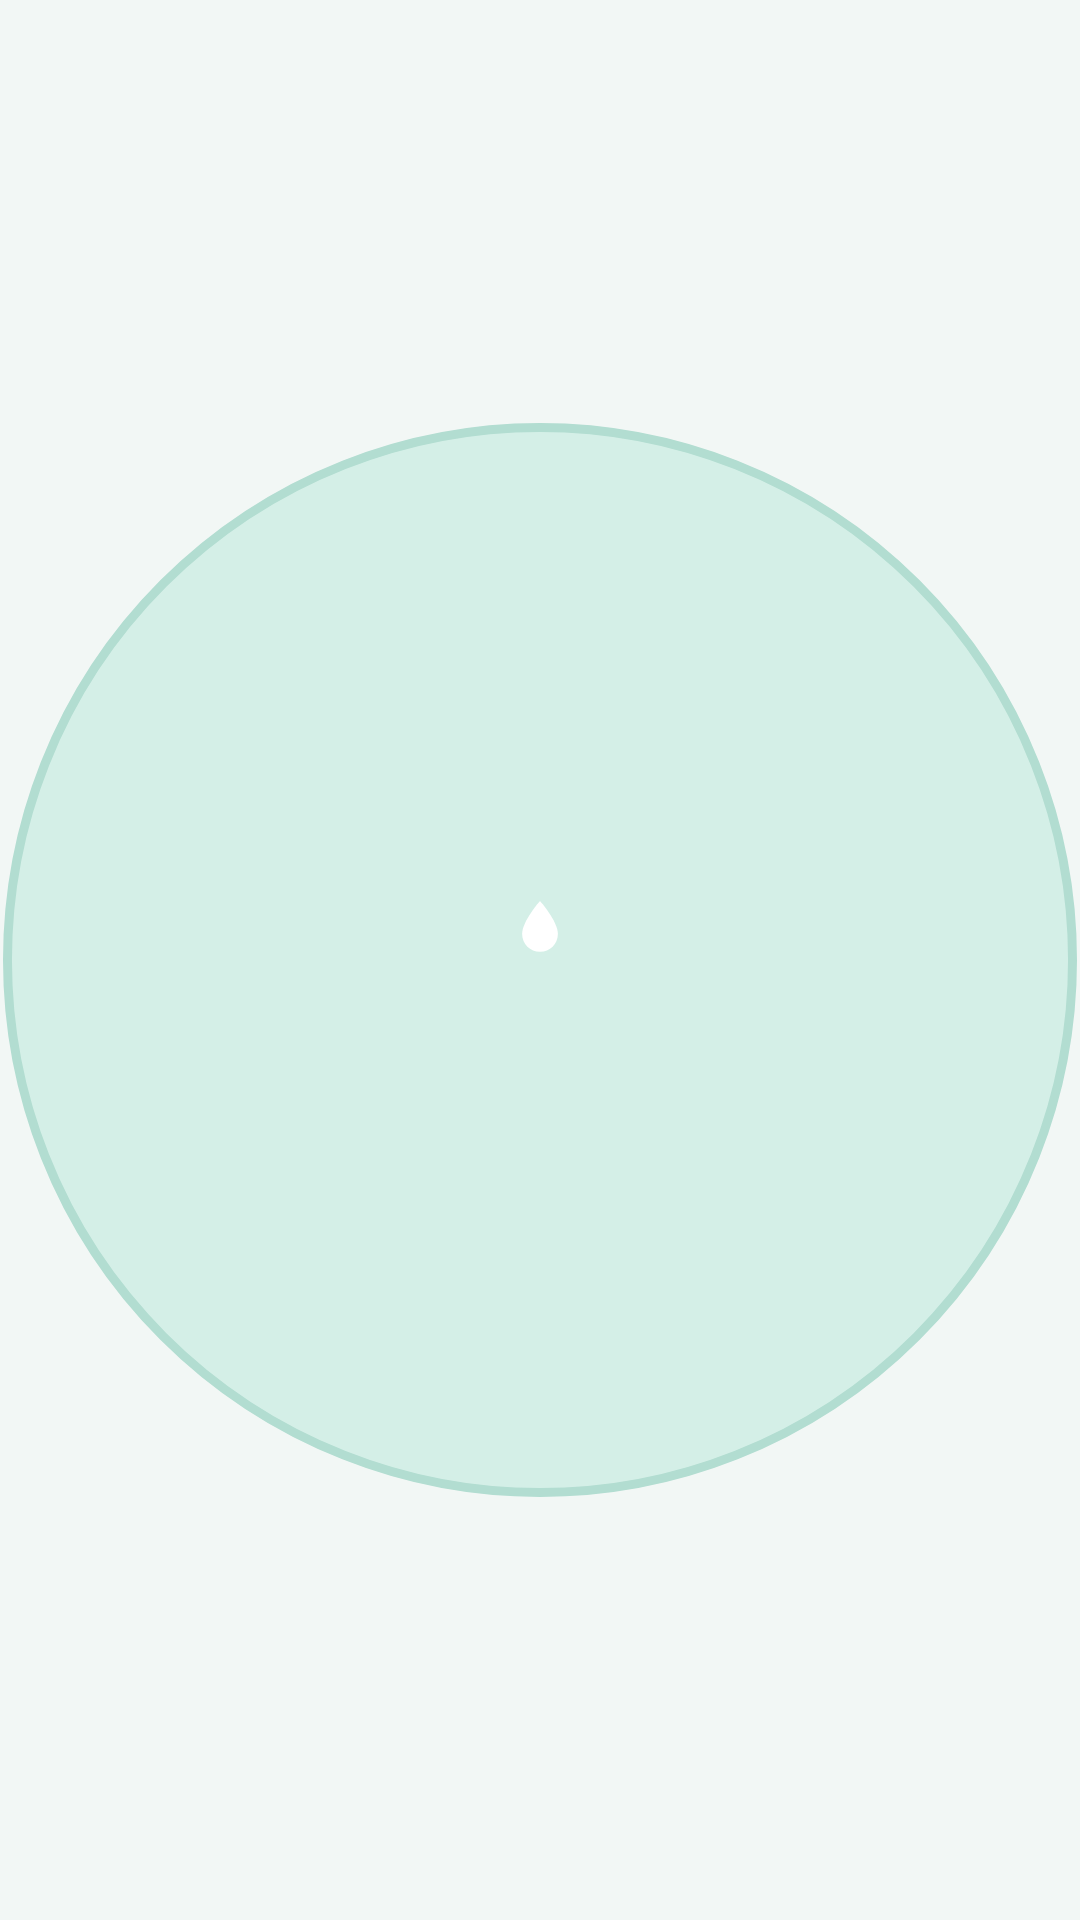

Named icons in this screenshot (1080 × 1920) and their centers, point (x, y):
widget hotwater: point (540, 927)
